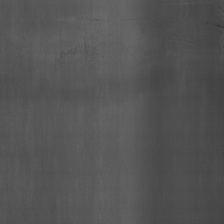rolled_pit: (52, 35, 115, 73)
